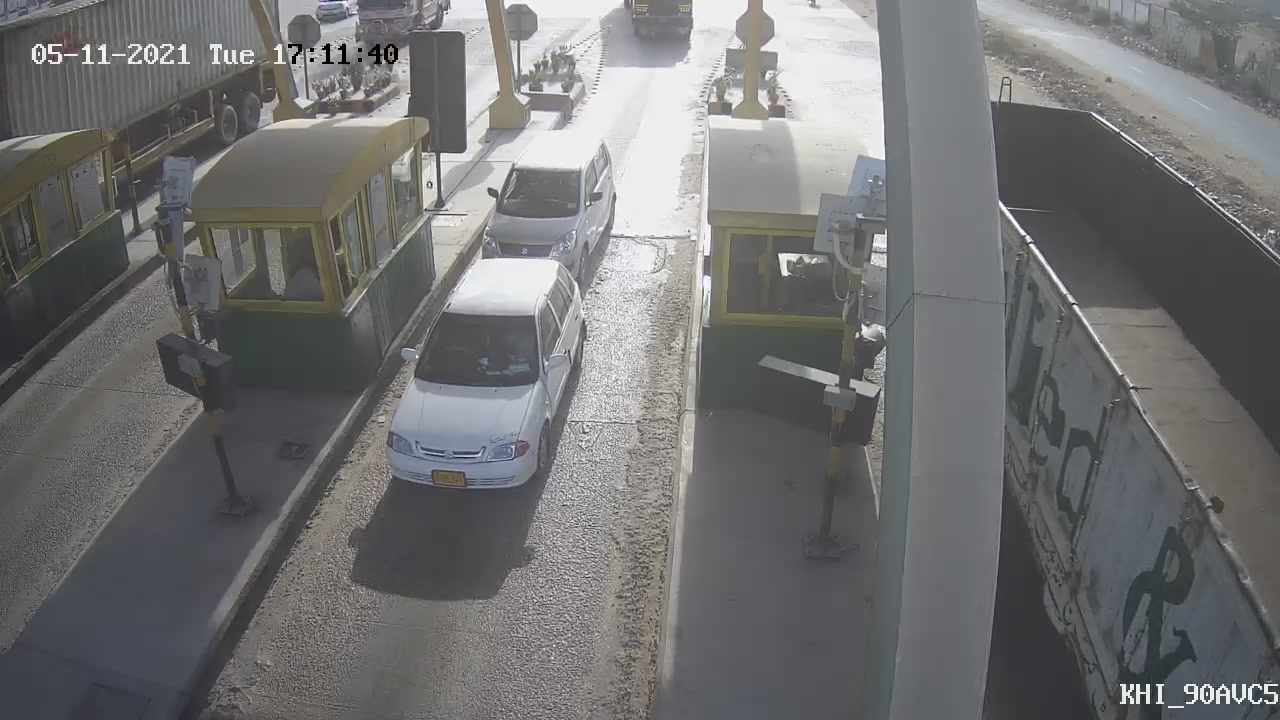F1: (363, 244, 609, 508), (463, 117, 633, 307)
